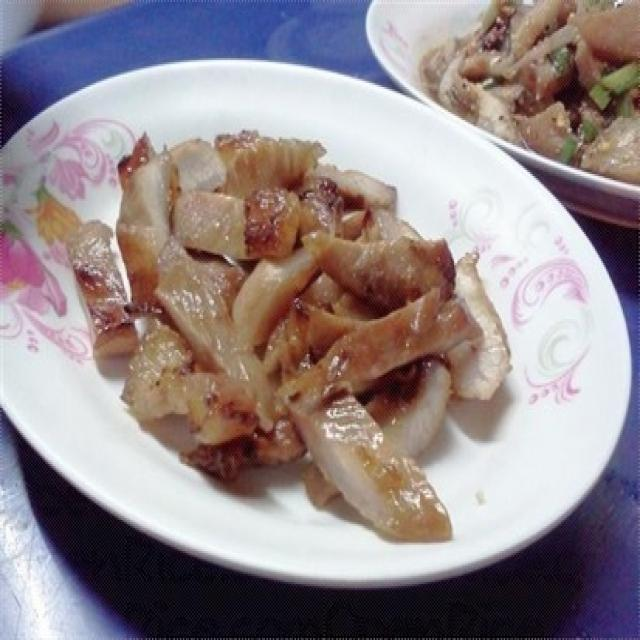猪肉菜式: (56, 87, 530, 553)
